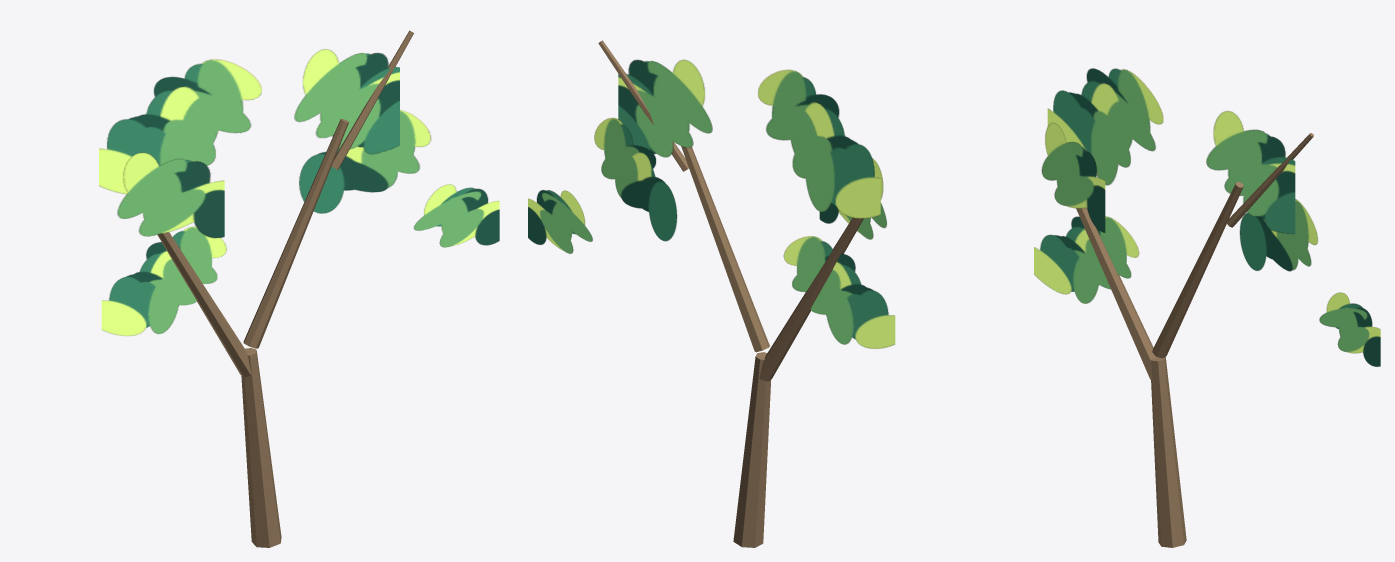
File: TREE_EUCALYPTUS_COASTAL_002_LOD_MAP.glb
3 renders of one model, left to right at view 1: azimuth 30°, elevation 25°; view 2: azimuth 150°, elevation 25°; view 3: azimuth 330°, elevation 25°, orthographic. The views are drawn at different scales.
Visible parts, largest first — view 1: GG_TREE_EUCALYPTUS_COASTAL_002_REAR_01_00, GG_TREE_EUCALYPTUS_COASTAL_002_REAR_02_00, GG_TREE_EUCALYPTUS_COASTAL_002_REAR_05_00, GG_TREE_EUCALYPTUS_COASTAL_002_REAR_00_00, GG_TREE_EUCALYPTUS_COASTAL_002_REAR_03_00, GG_TREE_EUCALYPTUS_COASTAL_002_BRANCH_00, GG_TREE_EUCALYPTUS_COASTAL_002_REAR_04_00, GG_TREE_EUCALYPTUS_COASTAL_002_BRANCH_02, GG_TREE_EUCALYPTUS_COASTAL_002_BRANCH_01, GG_TREE_EUCALYPTUS_COASTAL_002_BRANCH_03; view 2: GG_TREE_EUCALYPTUS_COASTAL_002_REAR_01_00, GG_TREE_EUCALYPTUS_COASTAL_002_REAR_02_00, GG_TREE_EUCALYPTUS_COASTAL_002_REAR_05_00, GG_TREE_EUCALYPTUS_COASTAL_002_REAR_03_00, GG_TREE_EUCALYPTUS_COASTAL_002_BRANCH_00, GG_TREE_EUCALYPTUS_COASTAL_002_BRANCH_02, GG_TREE_EUCALYPTUS_COASTAL_002_REAR_04_00, GG_TREE_EUCALYPTUS_COASTAL_002_BRANCH_01, GG_TREE_EUCALYPTUS_COASTAL_002_REAR_00_00, GG_TREE_EUCALYPTUS_COASTAL_002_BRANCH_03; view 3: GG_TREE_EUCALYPTUS_COASTAL_002_REAR_01_00, GG_TREE_EUCALYPTUS_COASTAL_002_REAR_02_00, GG_TREE_EUCALYPTUS_COASTAL_002_REAR_05_00, GG_TREE_EUCALYPTUS_COASTAL_002_BRANCH_00, GG_TREE_EUCALYPTUS_COASTAL_002_REAR_00_00, GG_TREE_EUCALYPTUS_COASTAL_002_REAR_03_00, GG_TREE_EUCALYPTUS_COASTAL_002_REAR_04_00, GG_TREE_EUCALYPTUS_COASTAL_002_BRANCH_02, GG_TREE_EUCALYPTUS_COASTAL_002_BRANCH_01, GG_TREE_EUCALYPTUS_COASTAL_002_BRANCH_03.
Part boxes in pixels (<box>): GG_TREE_EUCALYPTUS_COASTAL_002_REAR_01_00: <box>99,59,261,194</box>; GG_TREE_EUCALYPTUS_COASTAL_002_REAR_02_00: <box>294,49,399,154</box>; GG_TREE_EUCALYPTUS_COASTAL_002_REAR_05_00: <box>101,226,226,335</box>; GG_TREE_EUCALYPTUS_COASTAL_002_REAR_00_00: <box>117,152,224,238</box>; GG_TREE_EUCALYPTUS_COASTAL_002_REAR_03_00: <box>299,110,431,213</box>; GG_TREE_EUCALYPTUS_COASTAL_002_BRANCH_00: <box>241,348,281,547</box>; GG_TREE_EUCALYPTUS_COASTAL_002_REAR_04_00: <box>413,184,499,247</box>; GG_TREE_EUCALYPTUS_COASTAL_002_BRANCH_02: <box>243,118,348,348</box>; GG_TREE_EUCALYPTUS_COASTAL_002_BRANCH_01: <box>157,232,251,377</box>; GG_TREE_EUCALYPTUS_COASTAL_002_BRANCH_03: <box>331,30,413,169</box>; GG_TREE_EUCALYPTUS_COASTAL_002_REAR_01_00: <box>758,69,880,218</box>; GG_TREE_EUCALYPTUS_COASTAL_002_REAR_02_00: <box>618,59,712,157</box>; GG_TREE_EUCALYPTUS_COASTAL_002_REAR_05_00: <box>783,236,895,348</box>; GG_TREE_EUCALYPTUS_COASTAL_002_REAR_03_00: <box>594,117,677,241</box>; GG_TREE_EUCALYPTUS_COASTAL_002_BRANCH_00: <box>733,352,770,547</box>; GG_TREE_EUCALYPTUS_COASTAL_002_BRANCH_02: <box>681,146,769,352</box>; GG_TREE_EUCALYPTUS_COASTAL_002_REAR_04_00: <box>528,190,592,253</box>; GG_TREE_EUCALYPTUS_COASTAL_002_BRANCH_01: <box>759,217,863,381</box>; GG_TREE_EUCALYPTUS_COASTAL_002_REAR_00_00: <box>819,158,886,239</box>; GG_TREE_EUCALYPTUS_COASTAL_002_BRANCH_03: <box>598,40,688,171</box>; GG_TREE_EUCALYPTUS_COASTAL_002_REAR_01_00: <box>1047,68,1163,185</box>; GG_TREE_EUCALYPTUS_COASTAL_002_REAR_02_00: <box>1206,111,1295,233</box>; GG_TREE_EUCALYPTUS_COASTAL_002_REAR_05_00: <box>1034,216,1139,303</box>; GG_TREE_EUCALYPTUS_COASTAL_002_BRANCH_00: <box>1151,357,1186,547</box>; GG_TREE_EUCALYPTUS_COASTAL_002_REAR_00_00: <box>1041,122,1105,232</box>; GG_TREE_EUCALYPTUS_COASTAL_002_REAR_03_00: <box>1239,199,1317,271</box>; GG_TREE_EUCALYPTUS_COASTAL_002_REAR_04_00: <box>1319,292,1380,366</box>; GG_TREE_EUCALYPTUS_COASTAL_002_BRANCH_02: <box>1152,182,1243,358</box>; GG_TREE_EUCALYPTUS_COASTAL_002_BRANCH_01: <box>1076,207,1156,379</box>; GG_TREE_EUCALYPTUS_COASTAL_002_BRANCH_03: <box>1226,133,1313,227</box>.
Size of the model in its own units: 7.46 by 8.09 by 1.08.
2 materials, 1 textured.
